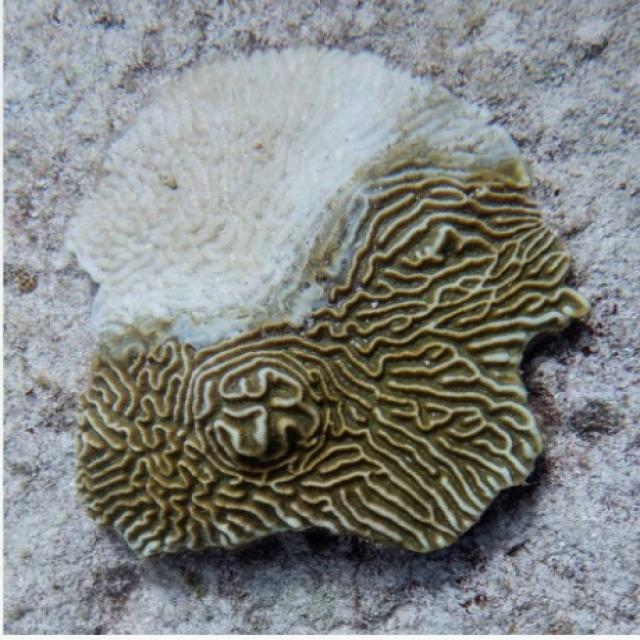Coral: (64, 42, 593, 567)
